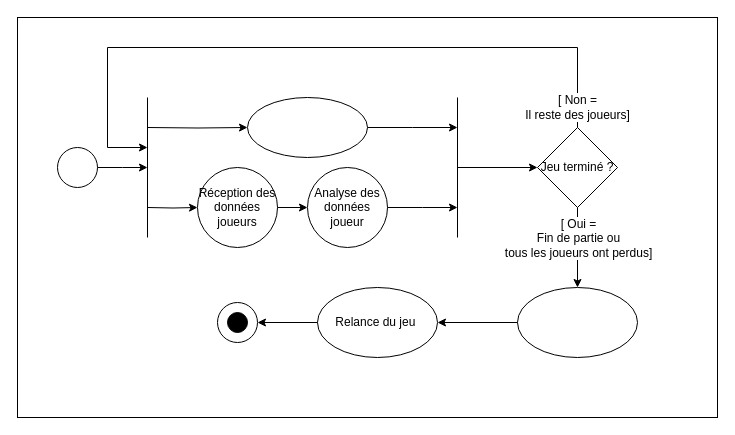
Some shapes in this 735 by 435 pixel diagram are drawn without their labels. Here are the shapes that lost their labels. From the top down, the box of each, then its label:
(246, 96, 368, 158): Envois des données joueurs aux écrans
(516, 286, 638, 358): Envois du message de fin de partie aux écrans
